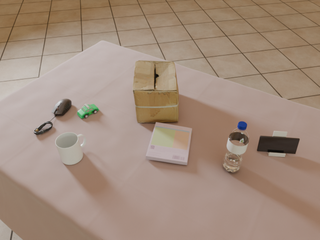book: (146, 122, 192, 165)
bottle: (223, 122, 249, 173)
box: (133, 61, 179, 123)
cup: (55, 132, 86, 165)
mouse: (52, 99, 71, 117)
phone: (257, 136, 300, 154)
toy_car: (77, 104, 99, 118)
